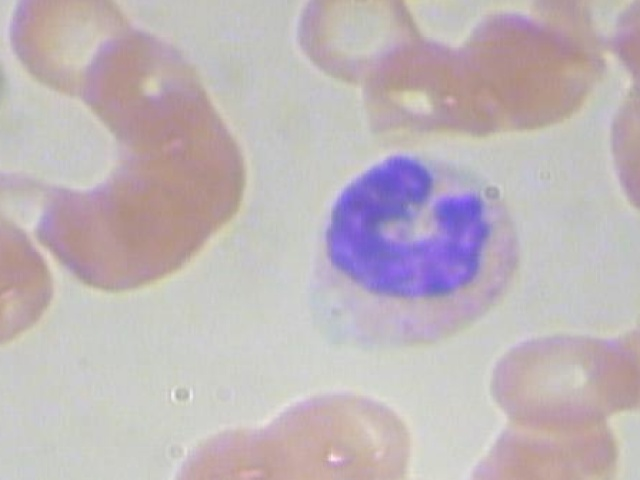Platelets: (0, 79, 11, 127)
RBC: (489, 322, 635, 433), (0, 0, 145, 98), (286, 0, 432, 86), (327, 472, 479, 480), (633, 293, 640, 433)
WBC: (290, 135, 545, 376)
